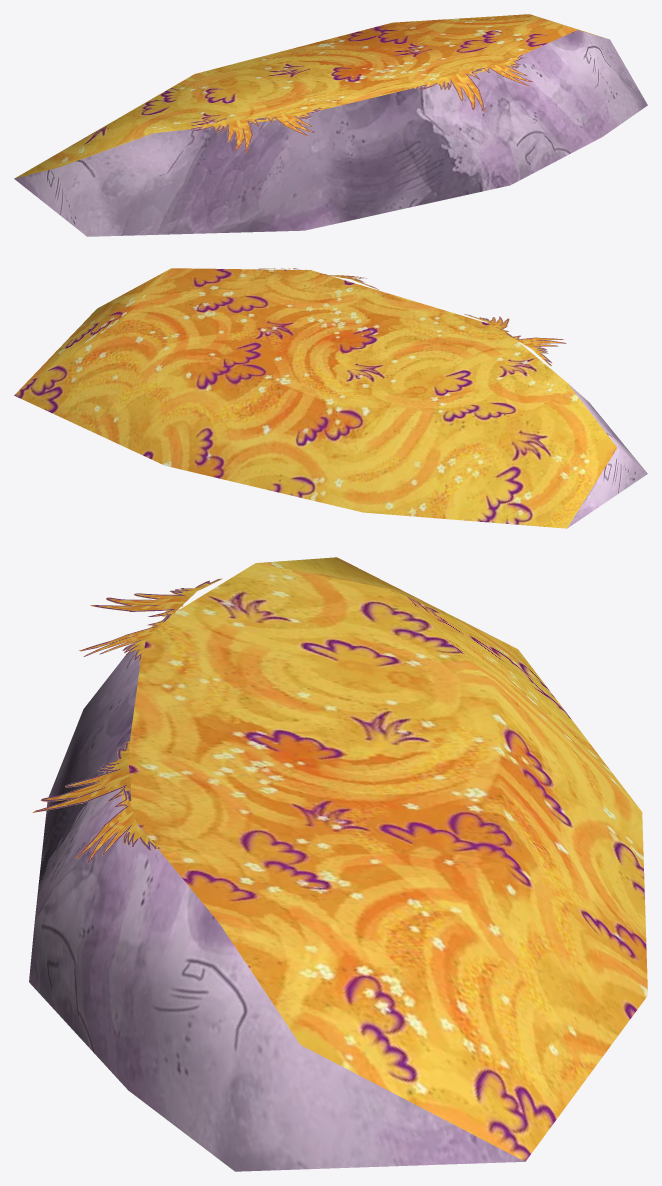
Rendered from terrain-amount-01-art.glb.
3 views of the same model, one above another, from view 1: azimuth 30°, elevation 25°; view 2: azimuth 150°, elevation 25°; view 3: azimuth 270°, elevation 25° (orthographic). The views are drawn at different scales.
Parts seen in each view (by area): view 1: Terrain_Amount_01_Art; view 2: Terrain_Amount_01_Art; view 3: Terrain_Amount_01_Art.
Boxes of the visible parts, left/top/right/bottom form: Terrain_Amount_01_Art: left=14, top=14, right=647, bottom=236; Terrain_Amount_01_Art: left=14, top=268, right=647, bottom=528; Terrain_Amount_01_Art: left=29, top=557, right=647, bottom=1171.
Size of what is drawn, in the model's own units: 8.75 by 1.6 by 4.53.
Materials: 3 (3 with a texture image).
